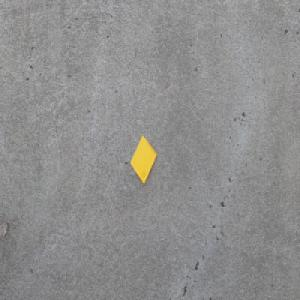PlasticPart: (129, 134, 157, 185)
